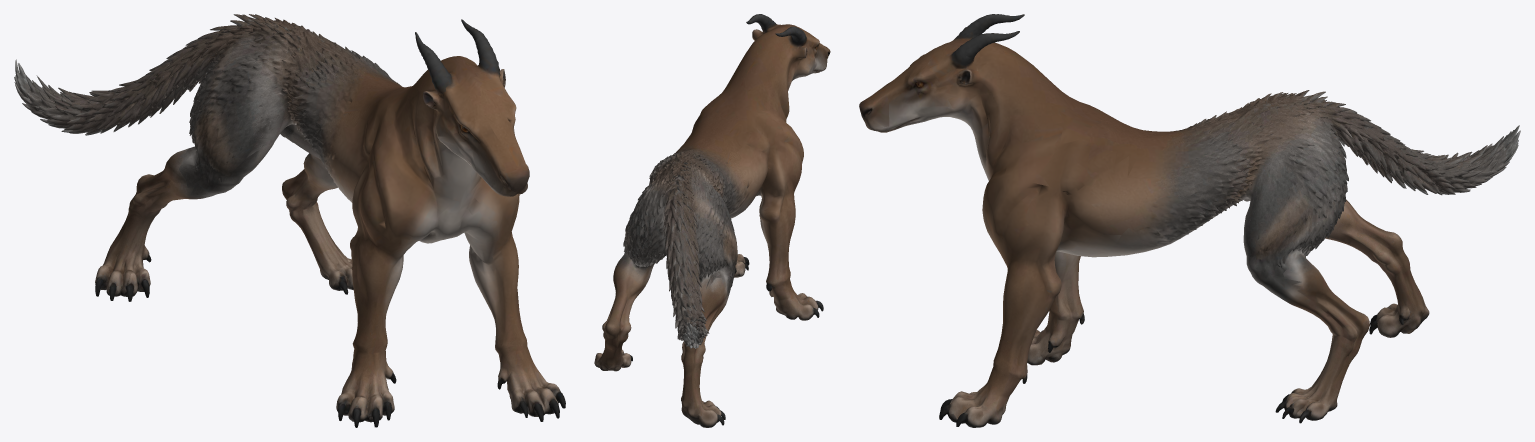
File: talren-source.glb
3 renders of one model, left to right at view 1: azimuth 30°, elevation 25°; view 2: azimuth 150°, elevation 25°; view 3: azimuth 270°, elevation 25°, orthographic. The views are drawn at different scales.
Parts seen in each view (by area): view 1: Mesh_0; view 2: Mesh_0; view 3: Mesh_0.
Boxes of the visible parts, box(x1,y1,x2,y2) form: Mesh_0: box(14, 14, 565, 427); Mesh_0: box(594, 14, 830, 427); Mesh_0: box(859, 14, 1520, 427).
Size of the model in its own units: 0.833 by 1.14 by 1.89.
Materials: 1 (1 with a texture image).
